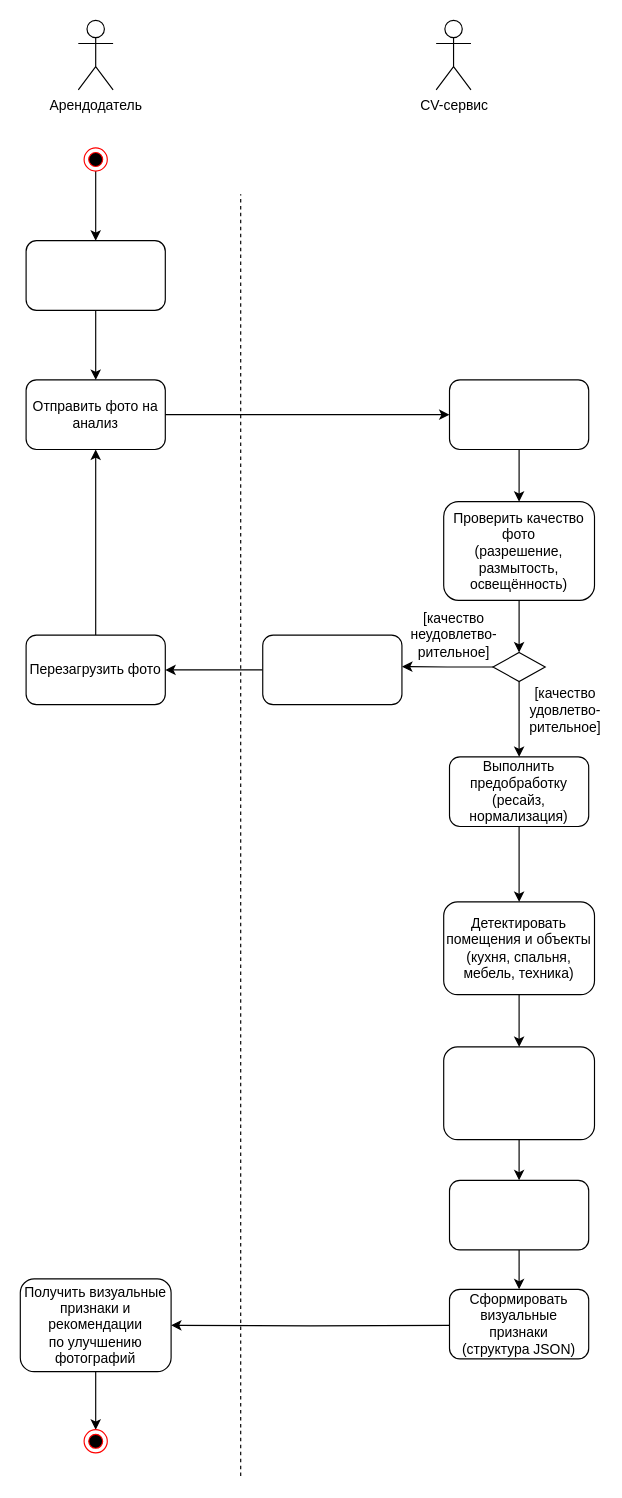
Some shapes in this 622 by 1498 pixel diagram are drawn without their labels. The box of each missing label's shape, as (x1, y1, x2, y2) in pixels:
Выбрать и загрузить фотографии квартиры: (25, 240, 165, 310)
Классифицировать состояние квартиры (тип ремонта, износ, современность мебели): (443, 1046, 594, 1140)
Получить изображения: (448, 379, 589, 449)
Рассчитать Photo Score (общая оценка набора фото): (448, 1179, 589, 1250)
Сформировать список проблемных фото: (262, 634, 402, 705)
